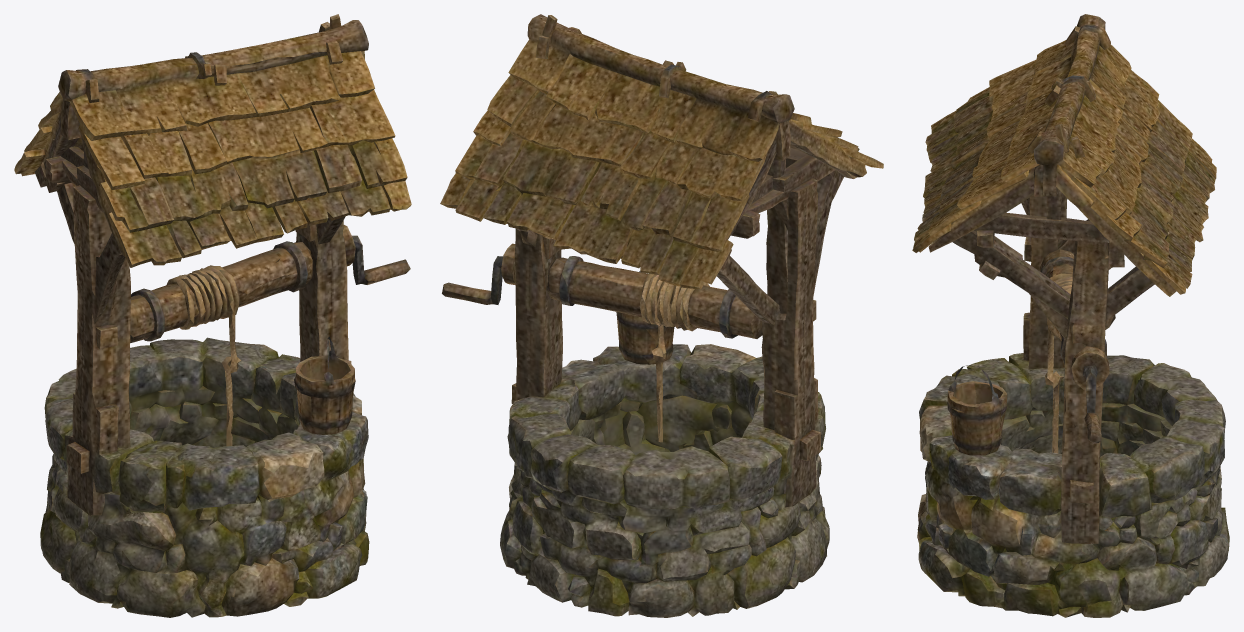
The model's file is well_lite.glb.
The picture shows the model from 3 angles, left to right: view 1: azimuth 30°, elevation 25°; view 2: azimuth 150°, elevation 25°; view 3: azimuth 270°, elevation 25°; orthographic projection. The views are drawn at different scales.
Parts seen in each view (by area): view 1: geometry_0; view 2: geometry_0; view 3: geometry_0.
Boxes of the visible parts, x1,y1,x2,y2 form: geometry_0: (14,14,411,617); geometry_0: (440,14,883,617); geometry_0: (912,14,1229,617).
Bounding box in the file's own units: 1.42 × 1.9 × 1.13.
1 material, 1 textured.
